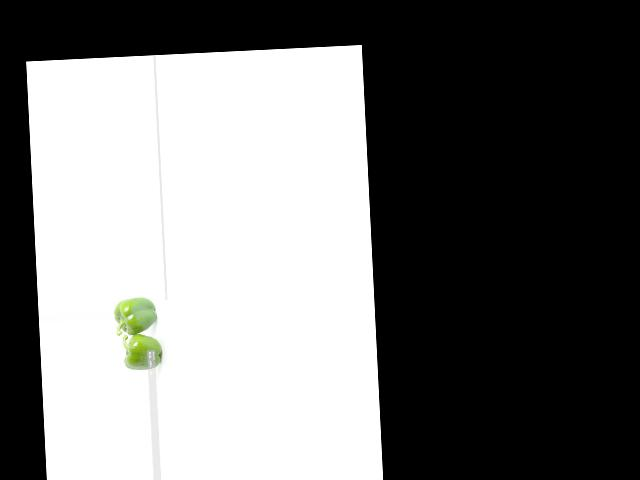bell_pepper: (110, 296, 163, 335)
